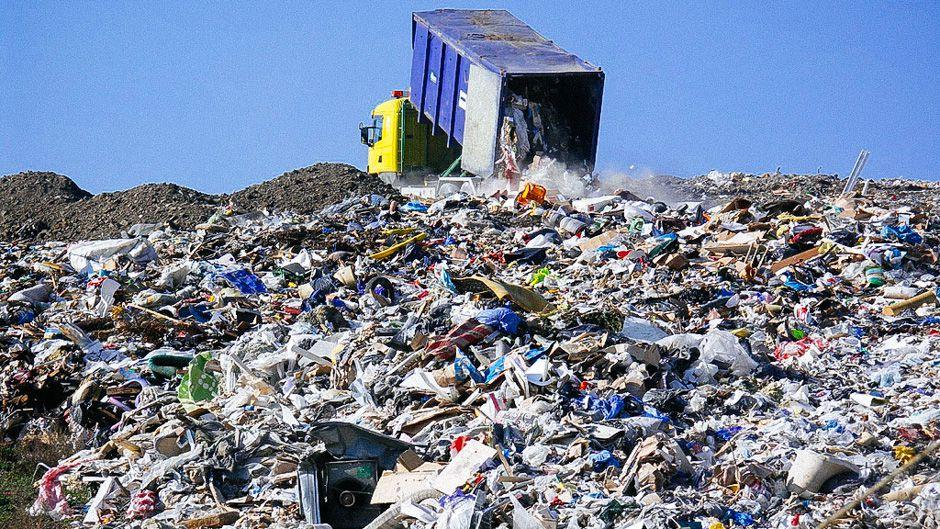garbage: (0, 176, 940, 529)
